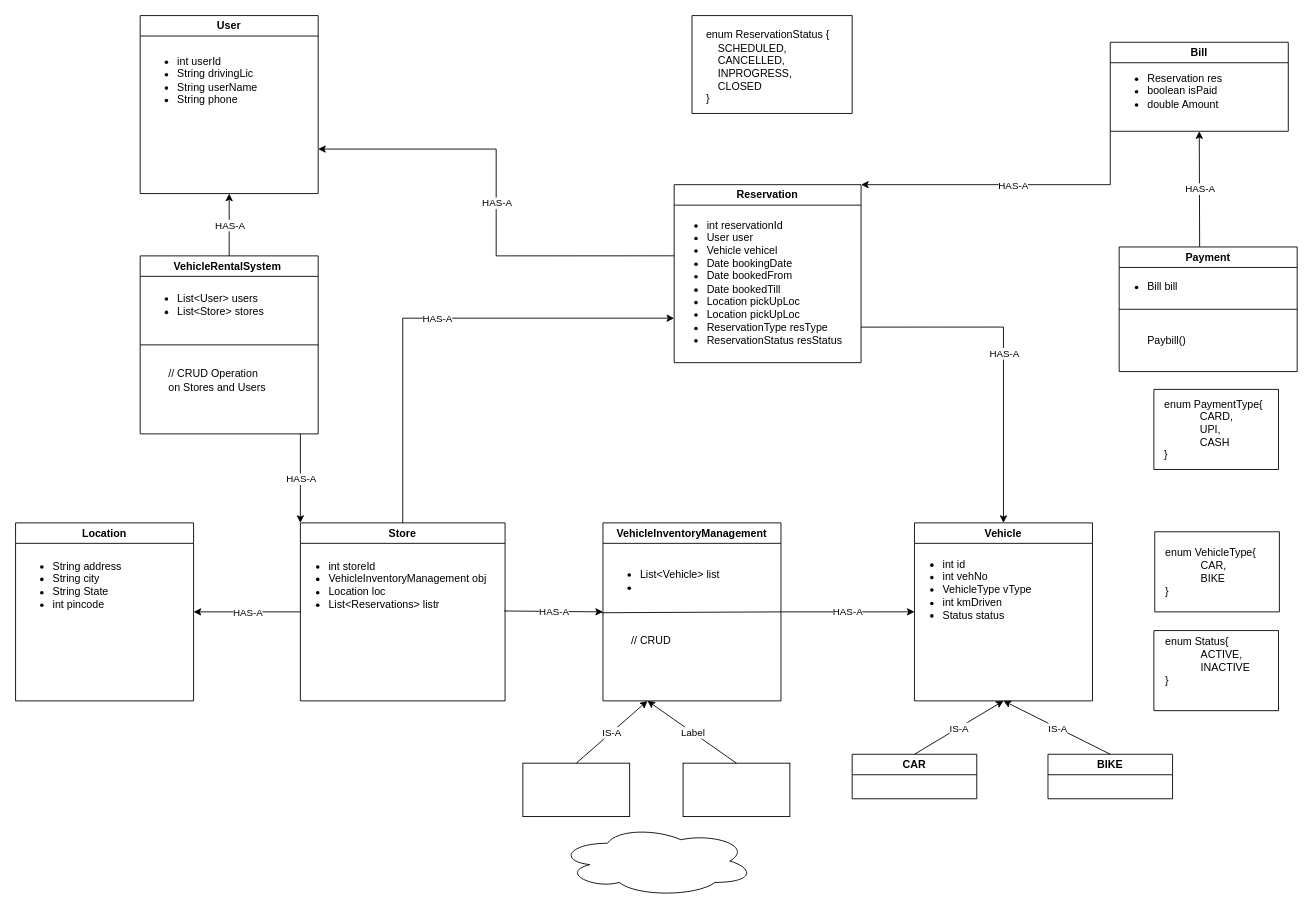
Some shapes in this 1314 by 912 pixel diagram are drawn without their labels. The centre of each missing label's shape, as x and y in pixels:
"BIKEVIM" belongs at pixel 736 789.
"CARVIM" belongs at pixel 576 789.
"Future Scaling different VehicleInventory Management" belongs at pixel 656 861.
